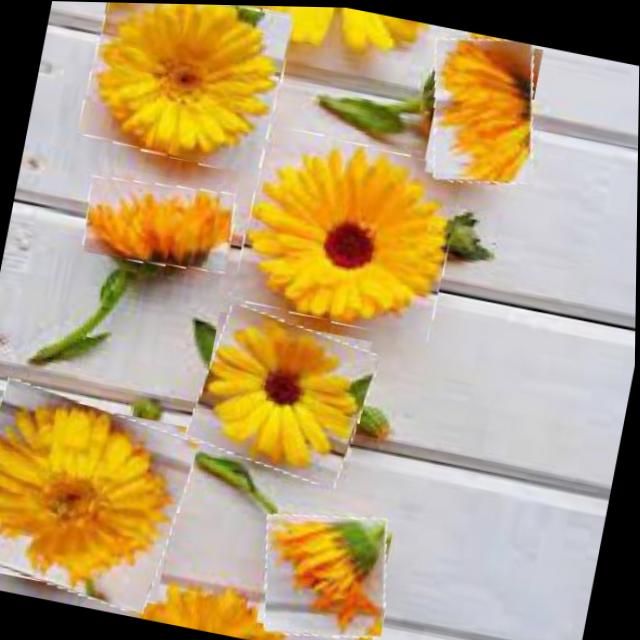Flower: (234, 123, 466, 341), (0, 381, 200, 613), (78, 1, 294, 175), (188, 303, 381, 486), (416, 24, 551, 193), (253, 500, 400, 640), (79, 167, 241, 277)
